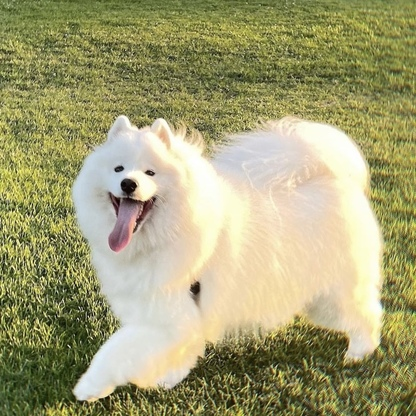samoyed: (67, 108, 390, 406)
